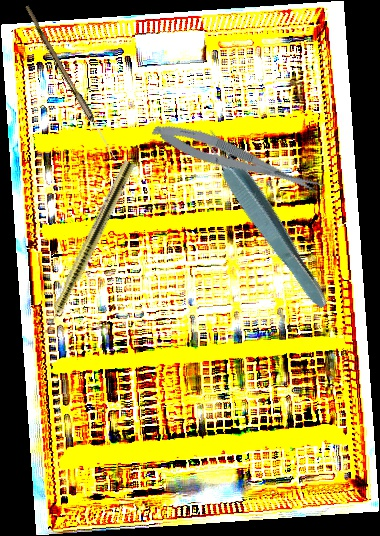Handpiece: (35, 158, 136, 345)
Micro Scissor: (148, 114, 327, 206)
Surgical Spoon: (21, 5, 120, 161)
Tissue Forceps: (191, 118, 337, 315)
